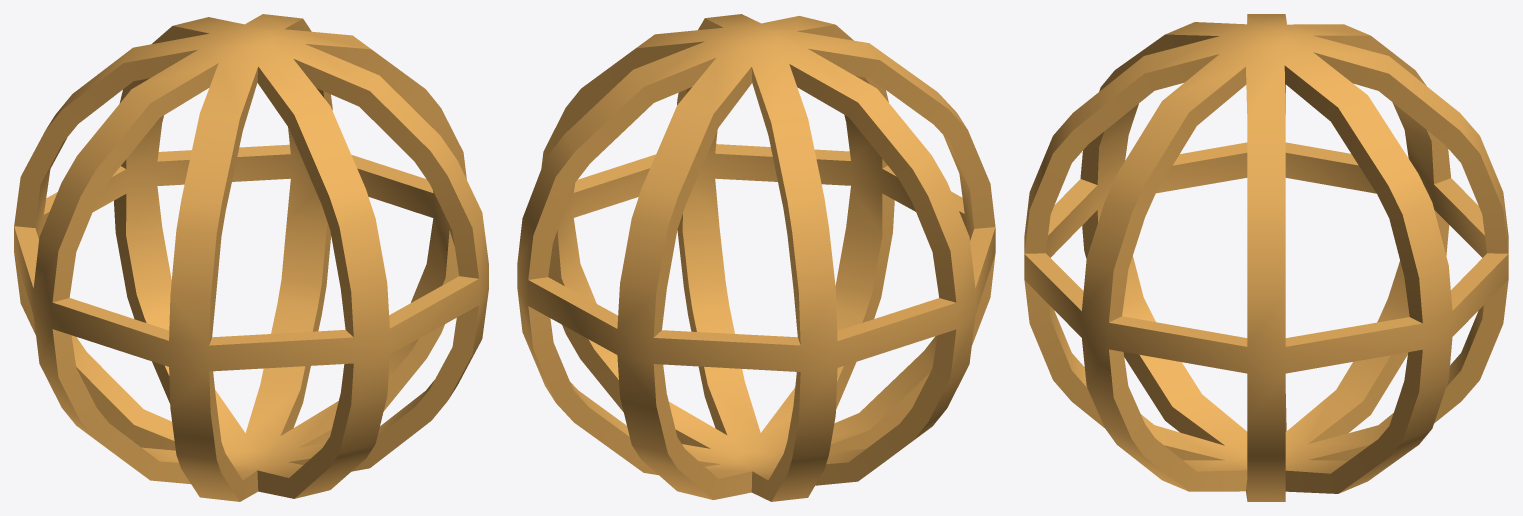
Rendered from SphereMesh_02.fbx.
The picture shows the model from 3 angles, left to right: view 1: azimuth 30°, elevation 25°; view 2: azimuth 150°, elevation 25°; view 3: azimuth 270°, elevation 25°; orthographic projection.
Visible parts, largest first — view 1: SphereMesh_02; view 2: SphereMesh_02; view 3: SphereMesh_02.
Boxes of the visible parts, x1=… form: SphereMesh_02: x1=14, y1=14, x2=488, y2=501; SphereMesh_02: x1=517, y1=14, x2=995, y2=501; SphereMesh_02: x1=1024, y1=14, x2=1508, y2=501.
Size of the model in its own units: 335 by 338 by 335.
